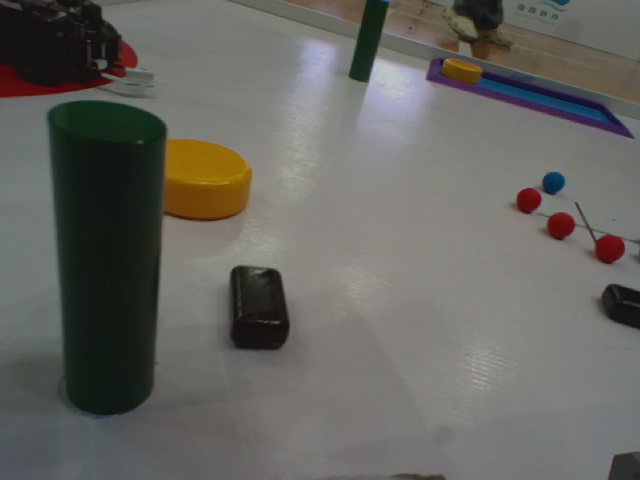black: (219, 263, 292, 362), (593, 281, 640, 327)
blue: (541, 166, 568, 199)
kuang: (418, 54, 635, 146)
red: (586, 223, 623, 270), (543, 207, 575, 245), (514, 181, 548, 214)
yellow: (141, 138, 271, 225), (437, 54, 485, 89)
zhuzi: (40, 69, 161, 419), (347, 1, 385, 90)
